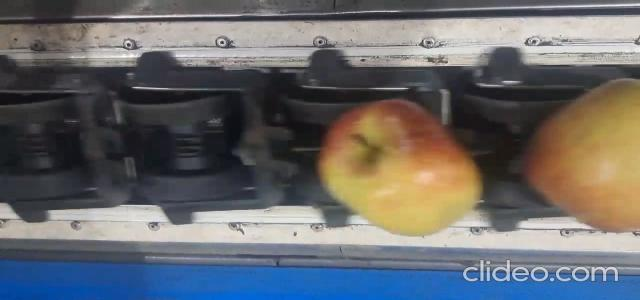apple: (319, 100, 481, 235), (526, 79, 640, 231)
